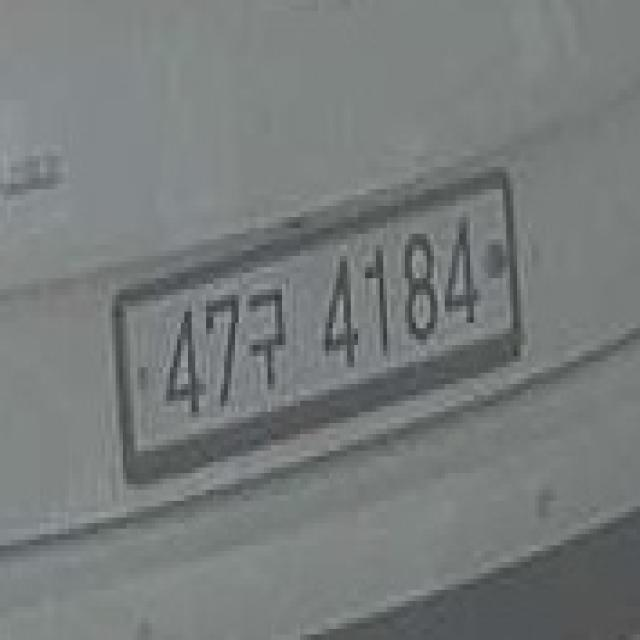plat: (111, 163, 523, 489)
